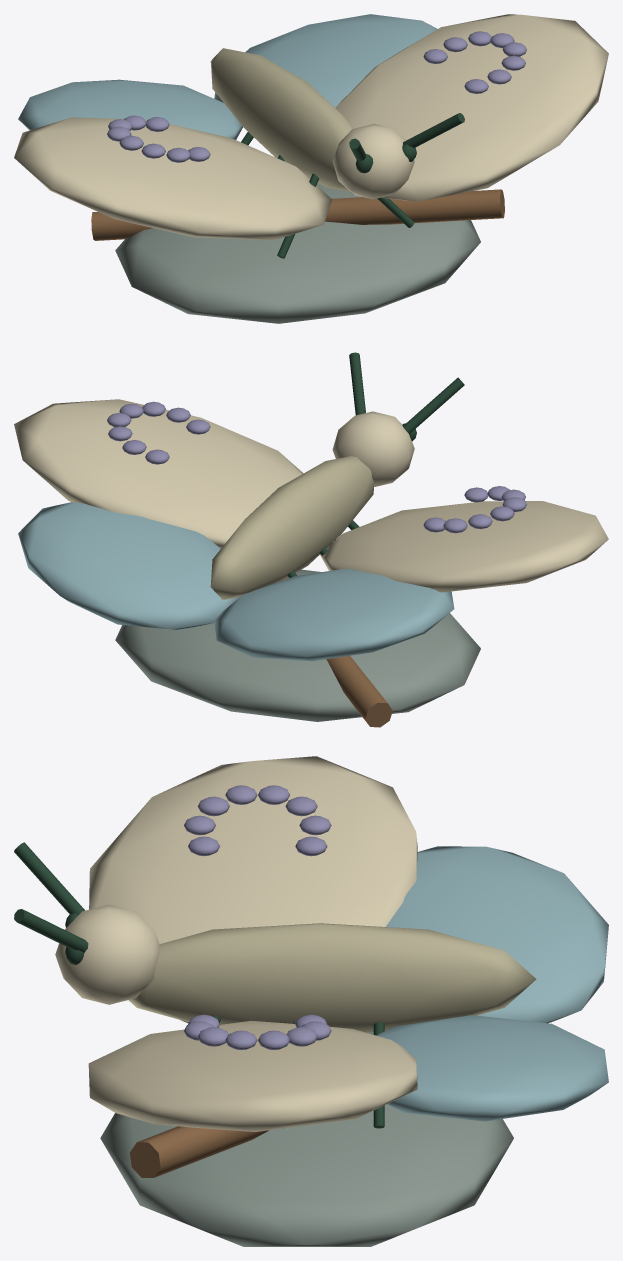
Rendered from discovery-moth.glb.
The picture shows the model from 3 angles, top to bottom: view 1: azimuth 30°, elevation 25°; view 2: azimuth 150°, elevation 25°; view 3: azimuth 270°, elevation 25°; orthographic projection. The views are drawn at different scales.
Parts seen in each view (by area): view 1: discovery-moth-visual; view 2: discovery-moth-visual; view 3: discovery-moth-visual.
Part boxes in pixels (x1=…): discovery-moth-visual: x1=14, y1=14, x2=608, y2=323; discovery-moth-visual: x1=14, y1=352, x2=608, y2=727; discovery-moth-visual: x1=14, y1=756, x2=608, y2=1246.
Bounding box in the file's own units: 0.9447 × 0.3764 × 0.6612.
